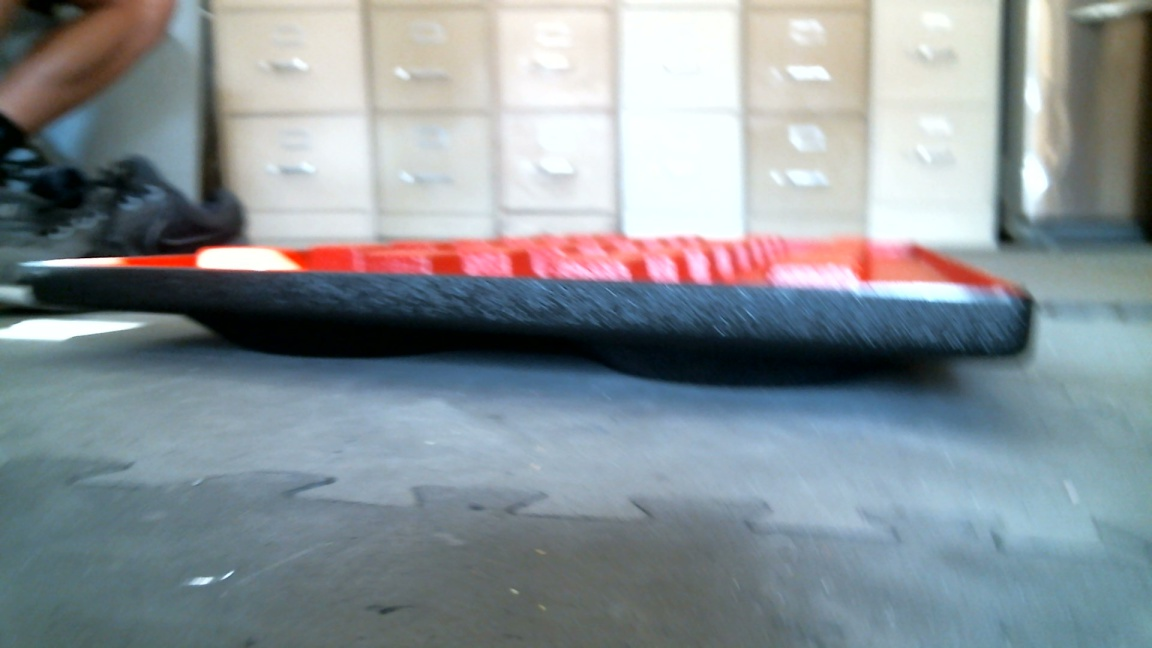red_foundation: (15, 242, 1034, 432)
